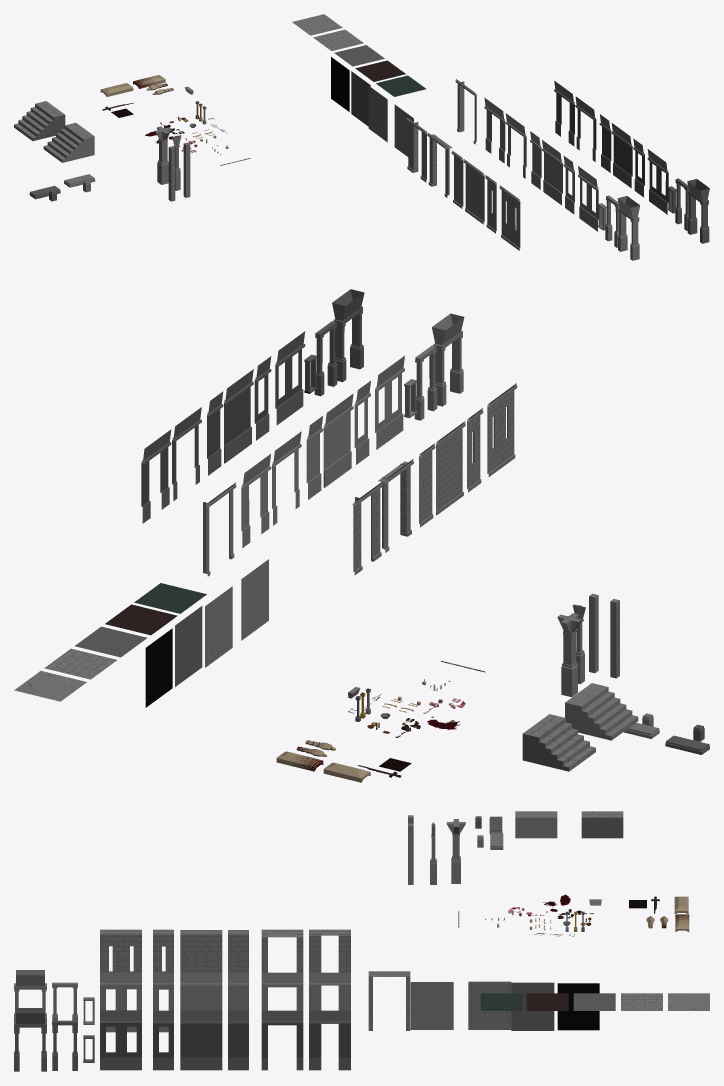
Rendered from Horror Starter Kit.fbx.
The picture shows the model from 3 angles, top to bottom: view 1: azimuth 30°, elevation 25°; view 2: azimuth 150°, elevation 25°; view 3: azimuth 270°, elevation 25°; orthographic projection. The views are drawn at different scales.
Visible parts, largest first — view 1: smooth stone steps, Smoth stone Block steps, smooth stone dubble door way, flat stone dubble door way, Smoth stone Block dubble window wall, Smoth stone Block dubble wall, flat stone dubble wall, smooth stone dubble wall, Smoth stone Block single door wall, flat stone dubble window wall, Smoth stone Block wall extra, smooth stone dubble window wall (+25 smaller); view 2: Smoth stone Block steps, smooth stone steps, smooth stone dubble wall, Smoth stone Block dubble window wall, flat stone dubble wall, Smoth stone Block dubble wall, smooth stone dubble door way, flat stone dubble door way, Smoth stone Block wall extra, smooth stone wall extra, flat stone wall extra, void (+25 smaller); view 3: flat stone dubble wall, flat stone dubble window wall, smooth stone wall extra, Smoth stone Block dubble wall, flat stone single door wall, Smoth stone Block dubble window wall, smooth stone dubble wall, Smoth stone Block wall extra, flat stone wall extra, void, smooth stone dubble window wall, flat stone dubble door wall (+23 smaller).
Part boxes in pixels (x1,y1,x2,y2): smooth stone steps: [43, 122, 94, 162]; Smoth stone Block steps: [14, 101, 65, 140]; smooth stone dubble door way: [617, 196, 640, 260]; flat stone dubble door way: [687, 179, 709, 243]; Smoth stone Block dubble window wall: [499, 185, 520, 250]; Smoth stone Block dubble wall: [463, 159, 484, 224]; flat stone dubble wall: [611, 123, 632, 188]; smooth stone dubble wall: [542, 140, 562, 205]; Smoth stone Block single door wall: [406, 117, 427, 182]; flat stone dubble window wall: [647, 149, 668, 214]; Smoth stone Block wall extra: [368, 86, 387, 142]; smooth stone dubble window wall: [578, 166, 598, 231]; Smoth stone Block steps: [522, 714, 595, 771]; smooth stone steps: [565, 683, 638, 740]; smooth stone dubble wall: [323, 393, 353, 487]; Smoth stone Block dubble window wall: [487, 383, 517, 476]; flat stone dubble wall: [224, 369, 253, 463]; Smoth stone Block dubble wall: [436, 421, 465, 514]; smooth stone dubble door way: [432, 313, 464, 406]; flat stone dubble door way: [332, 289, 364, 382]; Smoth stone Block wall extra: [205, 586, 232, 667]; smooth stone wall extra: [241, 559, 268, 640]; flat stone wall extra: [175, 606, 202, 686]; void: [145, 628, 172, 707]; flat stone dubble wall: [180, 1010, 222, 1070]; flat stone dubble window wall: [100, 1010, 141, 1070]; smooth stone wall extra: [410, 982, 453, 1029]; Smoth stone Block dubble wall: [180, 930, 222, 972]; flat stone single door wall: [309, 1010, 350, 1070]; Smoth stone Block dubble window wall: [100, 929, 141, 989]; smooth stone dubble wall: [180, 972, 222, 1010]; Smoth stone Block wall extra: [468, 981, 511, 1029]; flat stone wall extra: [511, 982, 554, 1030]; void: [557, 983, 599, 1030]; smooth stone dubble window wall: [100, 972, 141, 1032]; flat stone dubble door wall: [261, 1010, 303, 1070].
Size of the model in its own units: 57.01 by 8.61 by 66.41.
